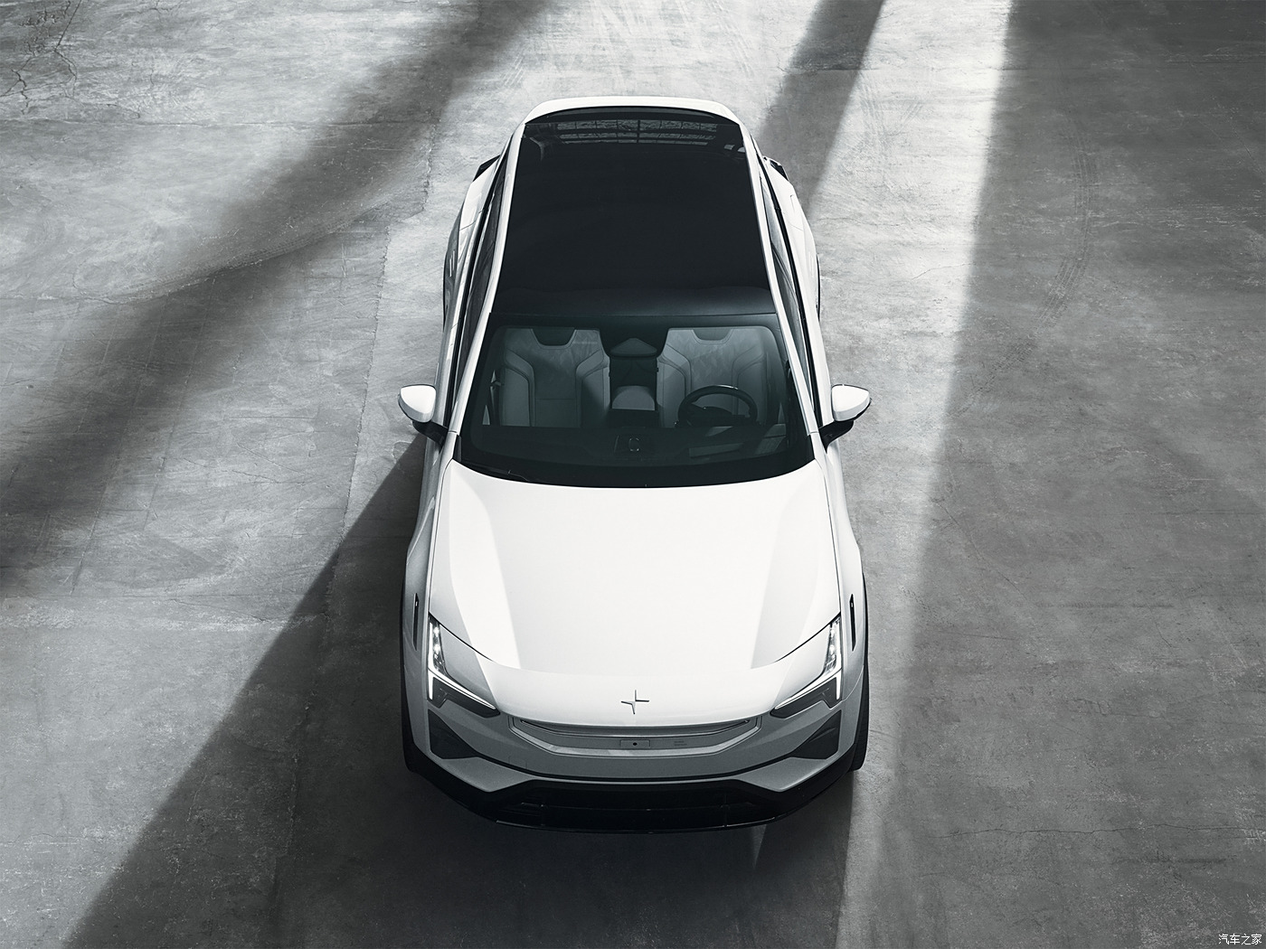Polestar: (621, 690, 649, 714)
